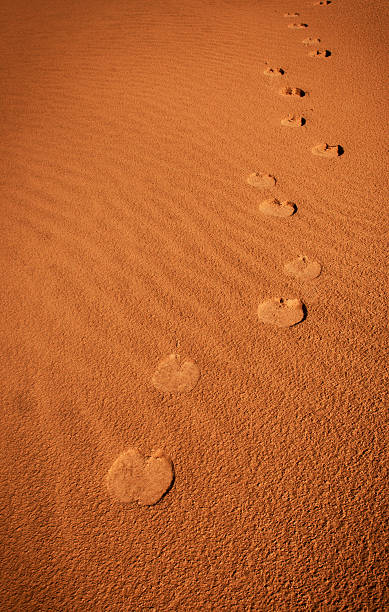animal_footprint: (106, 447, 173, 505), (152, 353, 199, 392), (257, 298, 305, 327), (284, 255, 321, 280), (258, 198, 296, 217), (247, 172, 275, 189), (312, 143, 343, 157), (281, 114, 305, 126), (279, 86, 305, 96), (263, 66, 284, 76), (309, 49, 330, 57), (302, 37, 320, 45), (288, 23, 307, 29), (284, 12, 299, 17)
